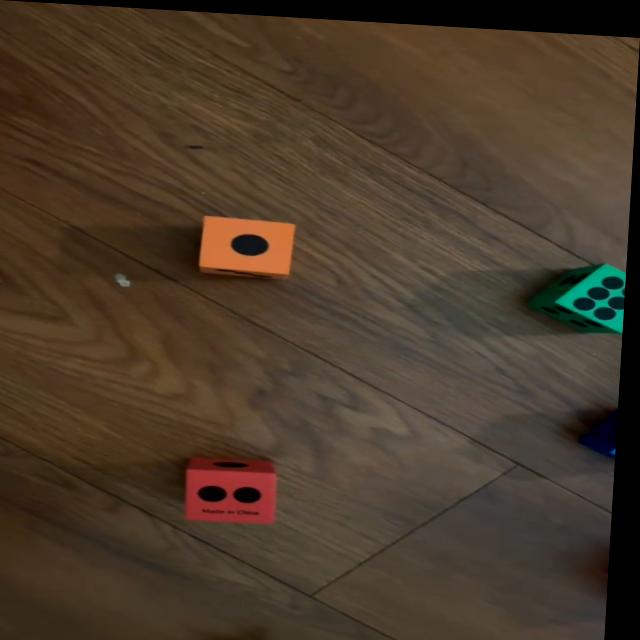cube: (528, 251, 629, 328), (188, 452, 285, 523), (589, 408, 622, 454)
